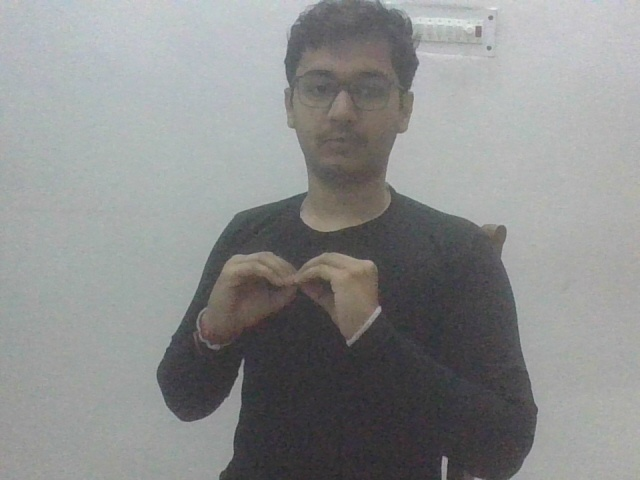B: (198, 249, 386, 349)
